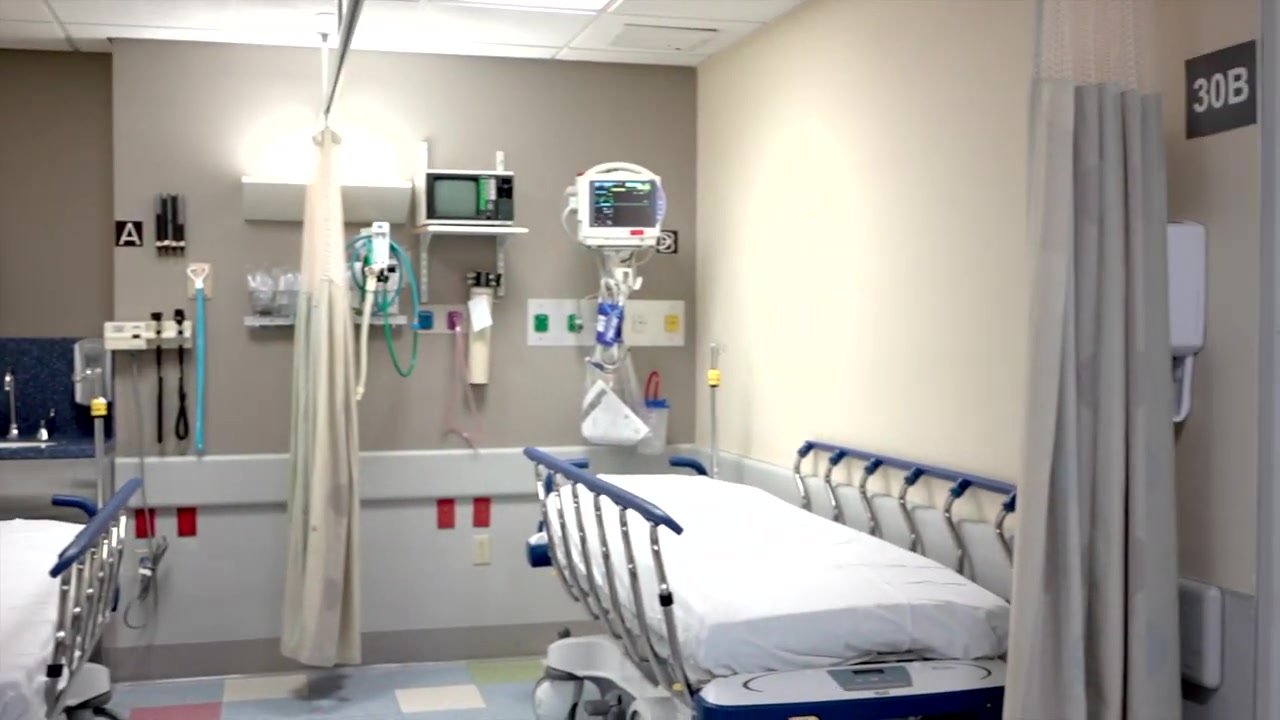bedrail: (519, 447, 693, 720), (794, 440, 1012, 587), (46, 475, 150, 720)
bedside_monitor: (578, 163, 665, 251)
curtain: (1007, 1, 1185, 720), (280, 115, 367, 666)
dispenser: (1165, 226, 1208, 425)
faucet: (31, 400, 63, 447)
hospital_bed: (514, 440, 1019, 720), (1, 473, 152, 720)
iv_pole: (76, 361, 111, 512), (700, 338, 733, 480)
